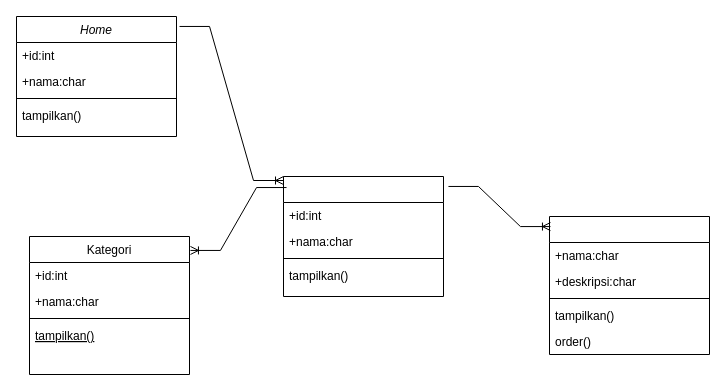
The diagram is 726 pixels wide and 391 high, and some of its shapes have lost their labels. Here are the shapes that lost their labels. From the top down, the box of each, then its label:
(282, 176, 444, 296): Menu
(548, 216, 710, 354): Detail
